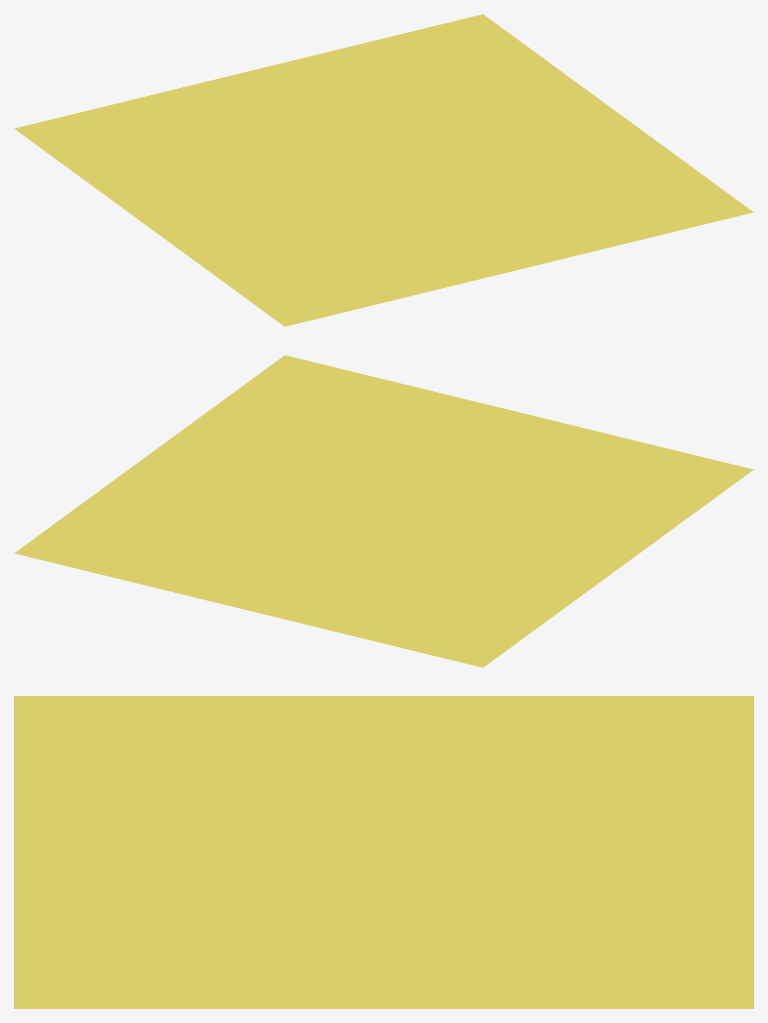
3 views of the same model, one above another, from view 1: azimuth 30°, elevation 25°; view 2: azimuth 150°, elevation 25°; view 3: azimuth 270°, elevation 25° (orthographic). The views are drawn at different scales.
Visible parts, largest first — view 1: Plane; view 2: Plane; view 3: Plane.
Part boxes in pixels (bbox=[...]): Plane: bbox=[14, 14, 753, 326]; Plane: bbox=[14, 355, 753, 667]; Plane: bbox=[14, 696, 753, 1008].
Size of the model in its own units: 51.61 by 1.15e-14 by 51.61.
